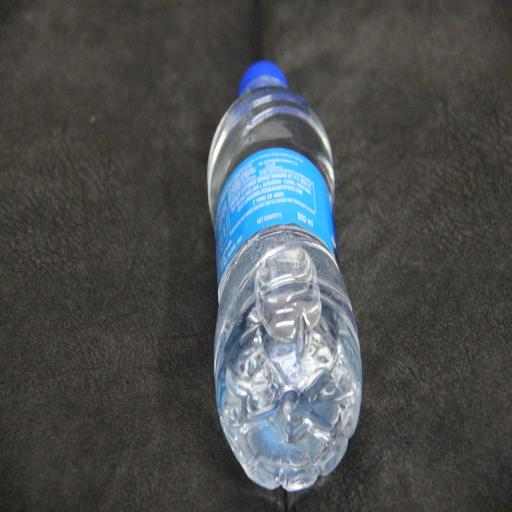Aquafina: (207, 60, 362, 491)
